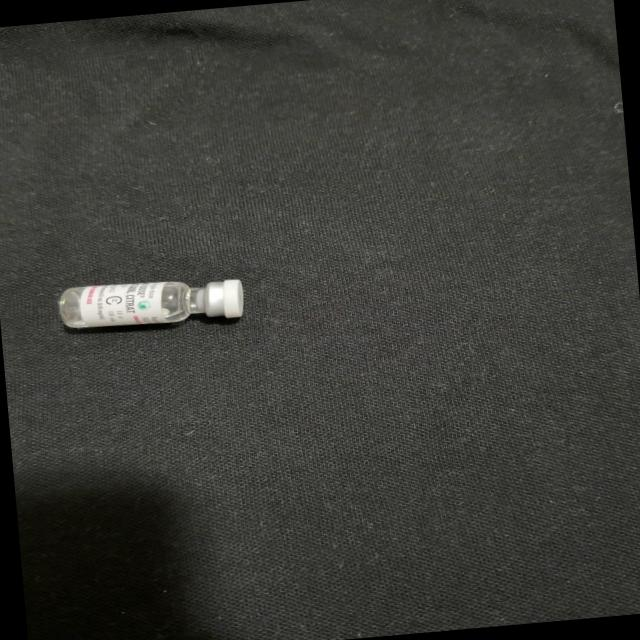fentanl_citrat: (59, 274, 241, 334)
